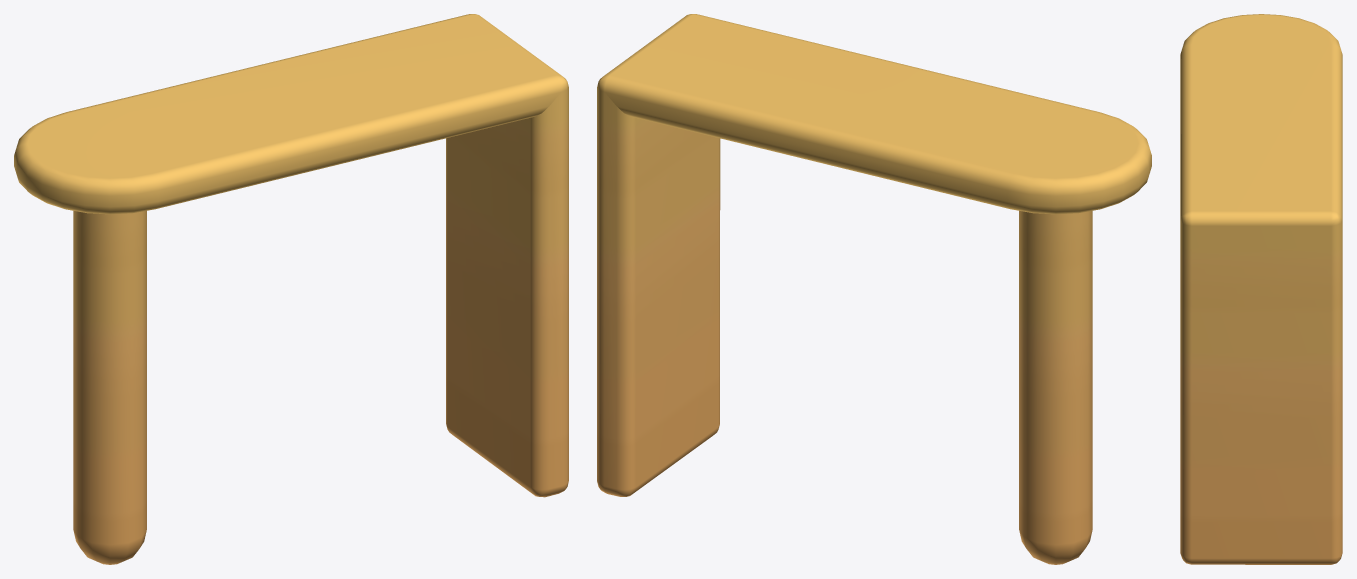
File: Kitchen_Table_16.glb
3 views of the same model, side by side, from view 1: azimuth 30°, elevation 25°; view 2: azimuth 150°, elevation 25°; view 3: azimuth 270°, elevation 25° (orthographic). The views are drawn at different scales.
Parts seen in each view (by area): view 1: Kitchen_Table_16; view 2: Kitchen_Table_16; view 3: Kitchen_Table_16.
Part boxes in pixels (left/top/right/bottom): Kitchen_Table_16: left=14, top=14, right=568, bottom=564; Kitchen_Table_16: left=597, top=14, right=1151, bottom=564; Kitchen_Table_16: left=1180, top=14, right=1342, bottom=564.
Size of the model in its own units: 1.5 by 1.2 by 0.5.
Materials: 1 (1 with a texture image).
